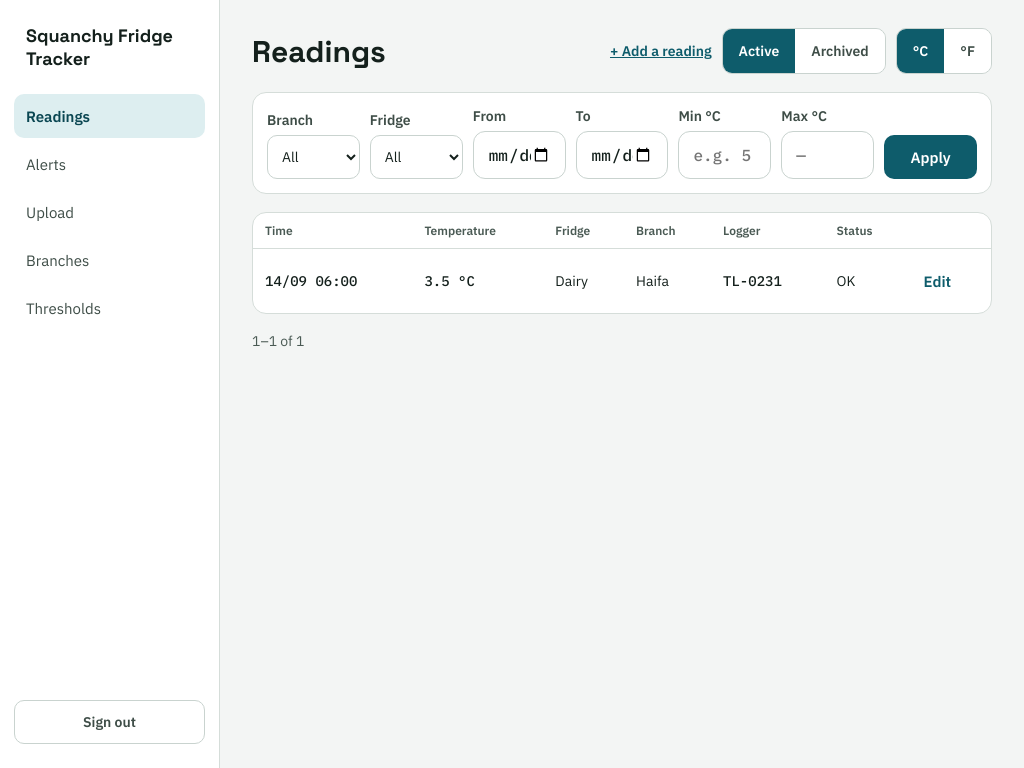
Test case: ReadingsPage editing › opens the edit dialog from the table and reloads the list after a save
Click the button "Edit": (937, 281) x1=919 y1=259 x2=956 y2=303
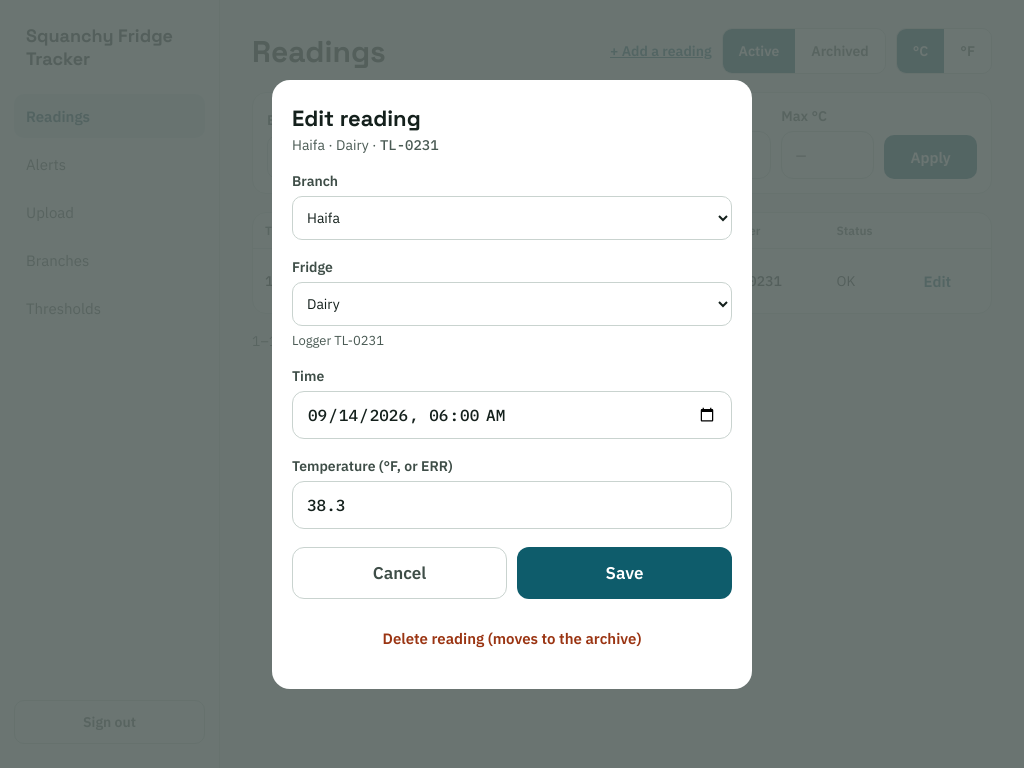
Replace the text in the field labelled "Temperature (°F, or ERR)" with "39": (512, 504) x1=292 y1=480 x2=732 y2=528
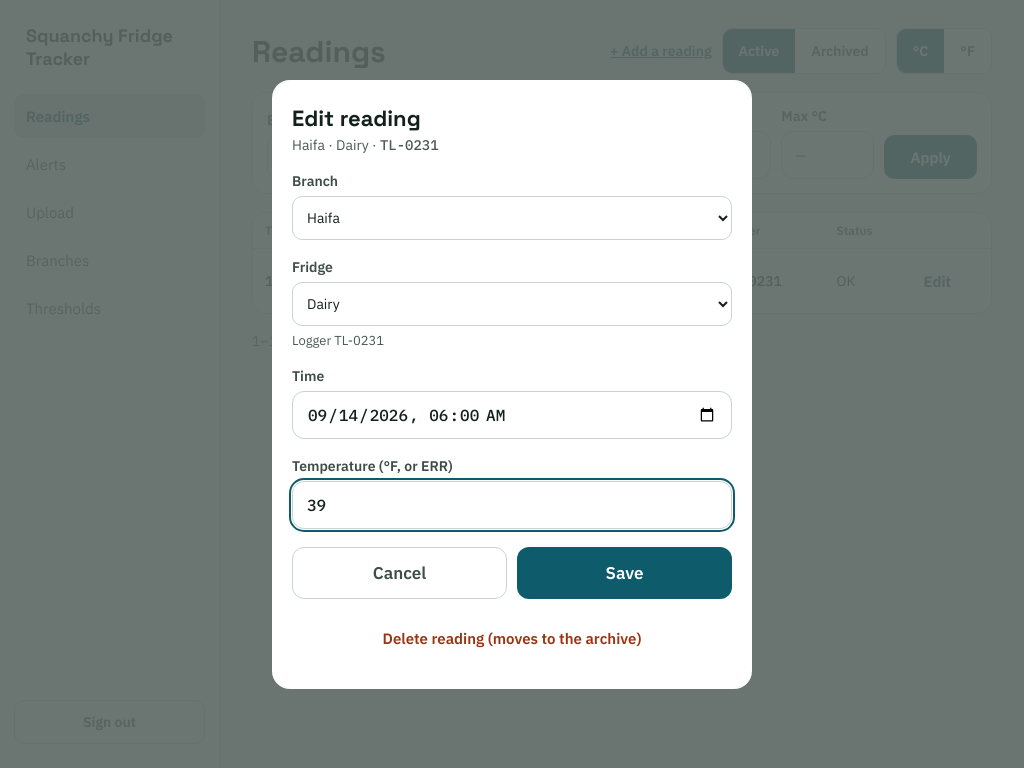
Click the button "Save": (624, 572) x1=517 y1=546 x2=732 y2=598
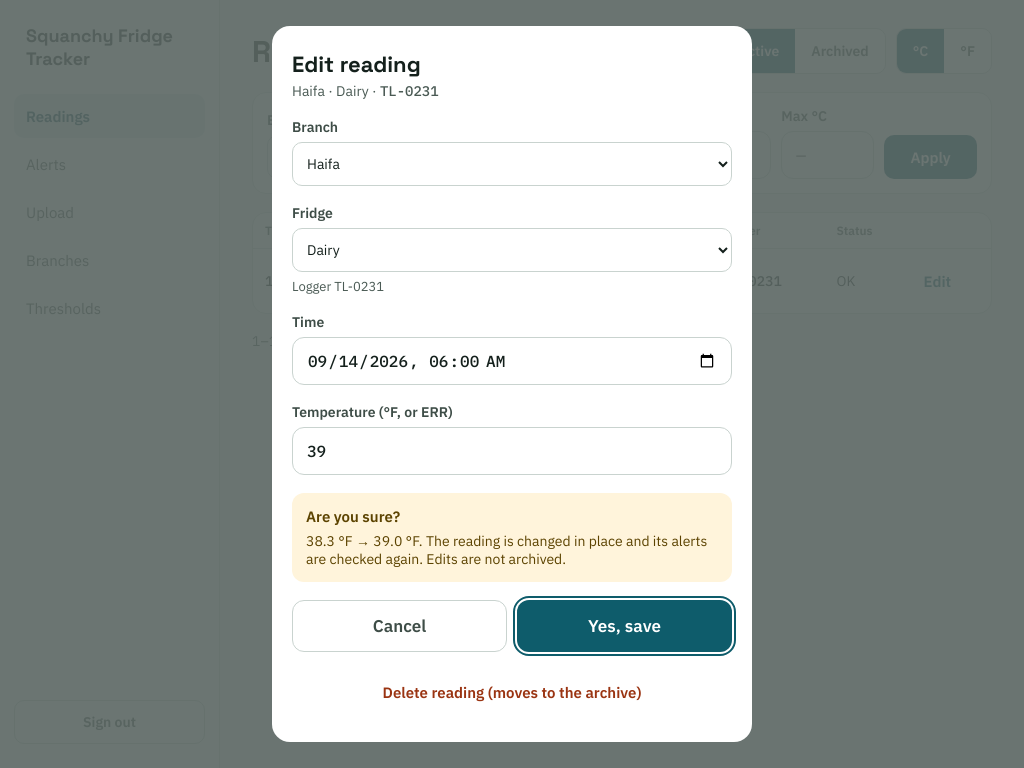
Click the button "Yes, save": (624, 626) x1=517 y1=600 x2=732 y2=652
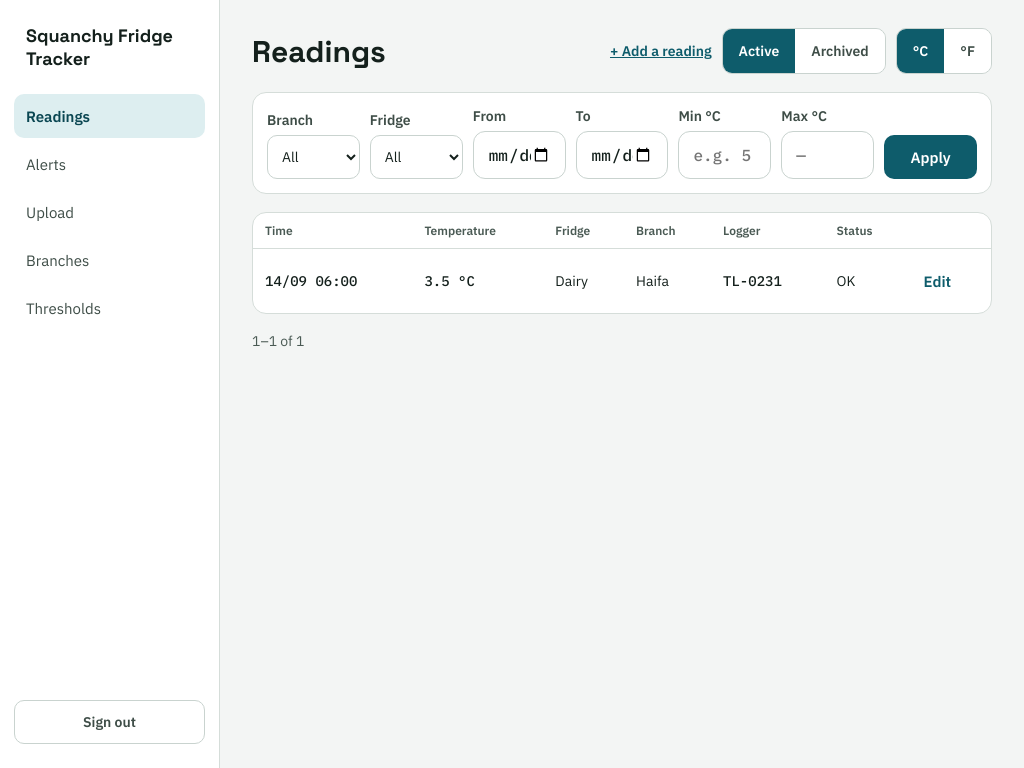
Check: the dialog is gone
